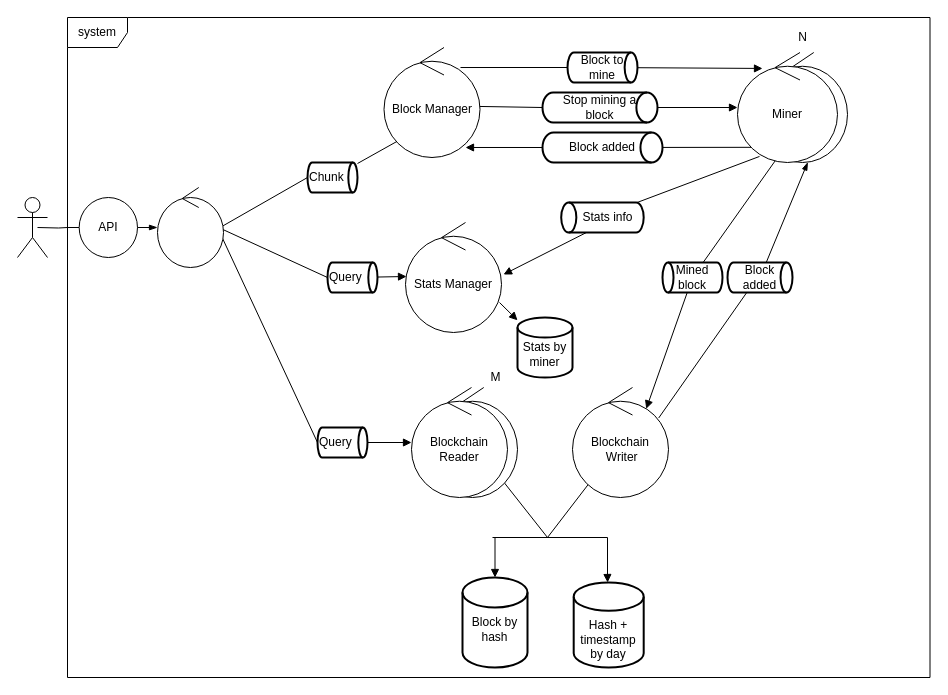
Image size: 948x695. Some labels were removed from this diagram. The shapes that lost their labels are listed below. From the top down, each one's centre as x and y in pixels, then its label:
the point at 32,227: Client
the point at 190,227: API handler
